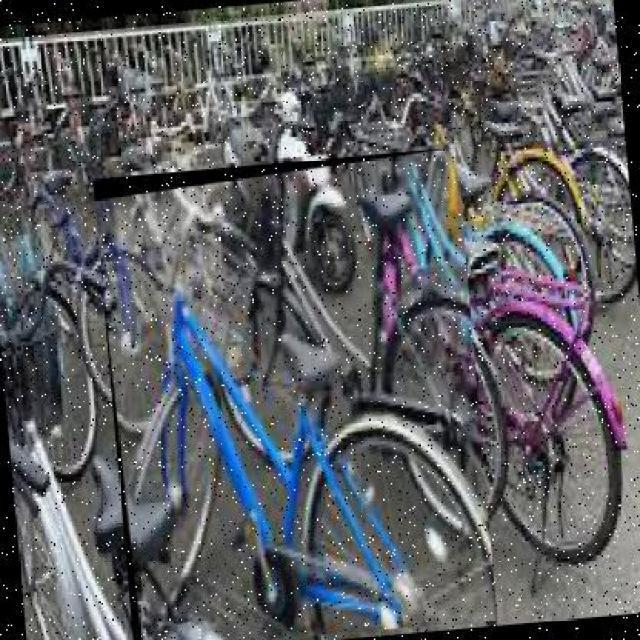bicycle: (92, 147, 500, 640)
